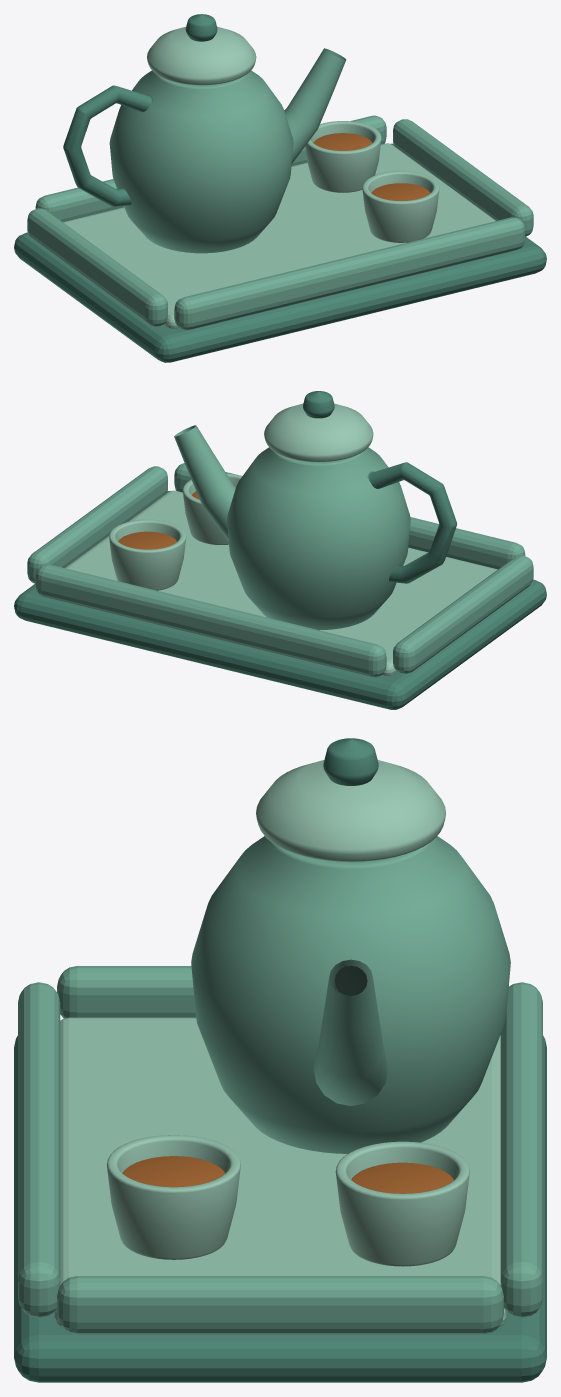
Rendered from CeladonTeaSet_Stylized.fbx.
The picture shows the model from 3 angles, top to bottom: view 1: azimuth 30°, elevation 25°; view 2: azimuth 150°, elevation 25°; view 3: azimuth 270°, elevation 25°; orthographic projection. The views are drawn at different scales.
Visible parts, largest first — view 1: Teapot_Body, Tray_Inset, Tray_Base, Tray_Rim_Front, Tray_Rim_Left, Tray_Rim_Right, Teapot_Lid, Cup_A_Bowl, Cup_B_Bowl, Teapot_Handle, Teapot_Spout, Tray_Rim_Back (+3 smaller); view 2: Teapot_Body, Tray_Base, Tray_Inset, Tray_Rim_Back, Tray_Rim_Left, Tray_Rim_Right, Teapot_Lid, Cup_B_Bowl, Teapot_Handle, Tray_Rim_Front, Teapot_Spout, Cup_A_Bowl (+2 smaller); view 3: Teapot_Body, Tray_Inset, Tray_Base, Tray_Rim_Right, Teapot_Lid, Tray_Rim_Front, Tray_Rim_Back, Cup_B_Bowl, Cup_A_Bowl, Teapot_Spout, Tray_Rim_Left, Cup_B_TeaSurface (+3 smaller).
Boxes of the visible parts, x1=… form: Teapot_Body: x1=109, y1=70, x2=293, y2=253; Tray_Inset: x1=63, y1=143, x2=495, y2=328; Tray_Base: x1=14, y1=143, x2=546, y2=362; Tray_Rim_Front: x1=174, y1=217, x2=525, y2=330; Tray_Rim_Left: x1=27, y1=208, x2=167, y2=326; Tray_Rim_Right: x1=393, y1=119, x2=533, y2=236; Teapot_Lid: x1=147, y1=26, x2=256, y2=85; Cup_A_Bowl: x1=362, y1=171, x2=439, y2=242; Cup_B_Bowl: x1=305, y1=121, x2=381, y2=192; Teapot_Handle: x1=63, y1=85, x2=152, y2=206; Teapot_Spout: x1=284, y1=48, x2=346, y2=163; Tray_Rim_Back: x1=35, y1=115, x2=386, y2=221; Teapot_Body: x1=227, y1=447, x2=410, y2=630; Tray_Base: x1=14, y1=491, x2=546, y2=709; Tray_Inset: x1=65, y1=490, x2=497, y2=675; Tray_Rim_Back: x1=35, y1=564, x2=386, y2=677; Tray_Rim_Left: x1=393, y1=555, x2=533, y2=673; Tray_Rim_Right: x1=27, y1=466, x2=167, y2=583; Teapot_Lid: x1=264, y1=403, x2=373, y2=462; Cup_B_Bowl: x1=109, y1=519, x2=186, y2=590; Teapot_Handle: x1=367, y1=462, x2=456, y2=583; Tray_Rim_Front: x1=174, y1=463, x2=525, y2=569; Teapot_Spout: x1=174, y1=425, x2=235, y2=540; Cup_A_Bowl: x1=183, y1=473, x2=242, y2=544; Teapot_Body: x1=191, y1=836, x2=510, y2=1153; Tray_Inset: x1=54, y1=1017, x2=506, y2=1326; Tray_Base: x1=14, y1=1035, x2=546, y2=1382; Tray_Rim_Right: x1=57, y1=1276, x2=503, y2=1334; Teapot_Lid: x1=256, y1=760, x2=445, y2=861; Tray_Rim_Front: x1=18, y1=982, x2=60, y2=1317; Tray_Rim_Back: x1=500, y1=982, x2=542, y2=1317; Cup_B_Bowl: x1=335, y1=1141, x2=469, y2=1266; Cup_A_Bowl: x1=107, y1=1135, x2=240, y2=1259; Teapot_Spout: x1=313, y1=959, x2=388, y2=1105; Tray_Rim_Left: x1=57, y1=966, x2=195, y2=1018; Cup_B_TeaSurface: x1=351, y1=1162, x2=453, y2=1193.
Bounding box in the file's own units: 0.5007 × 0.307 × 0.34.
